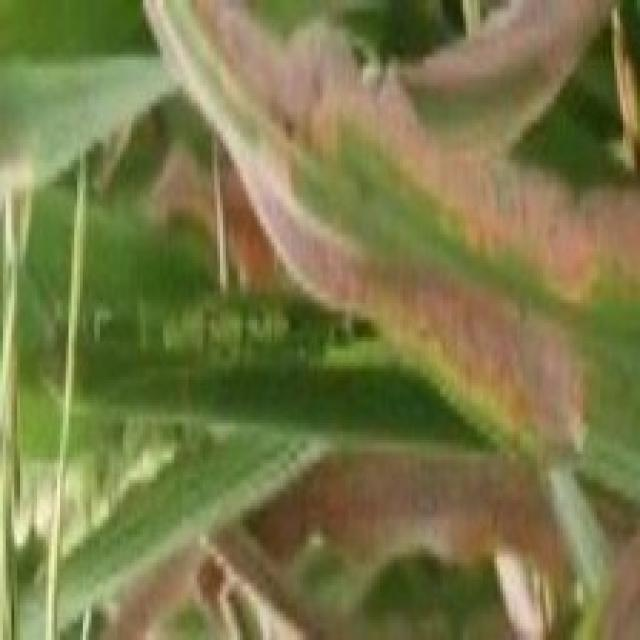Rice___Bacterial_Leaf_Blight: (134, 0, 637, 505)
